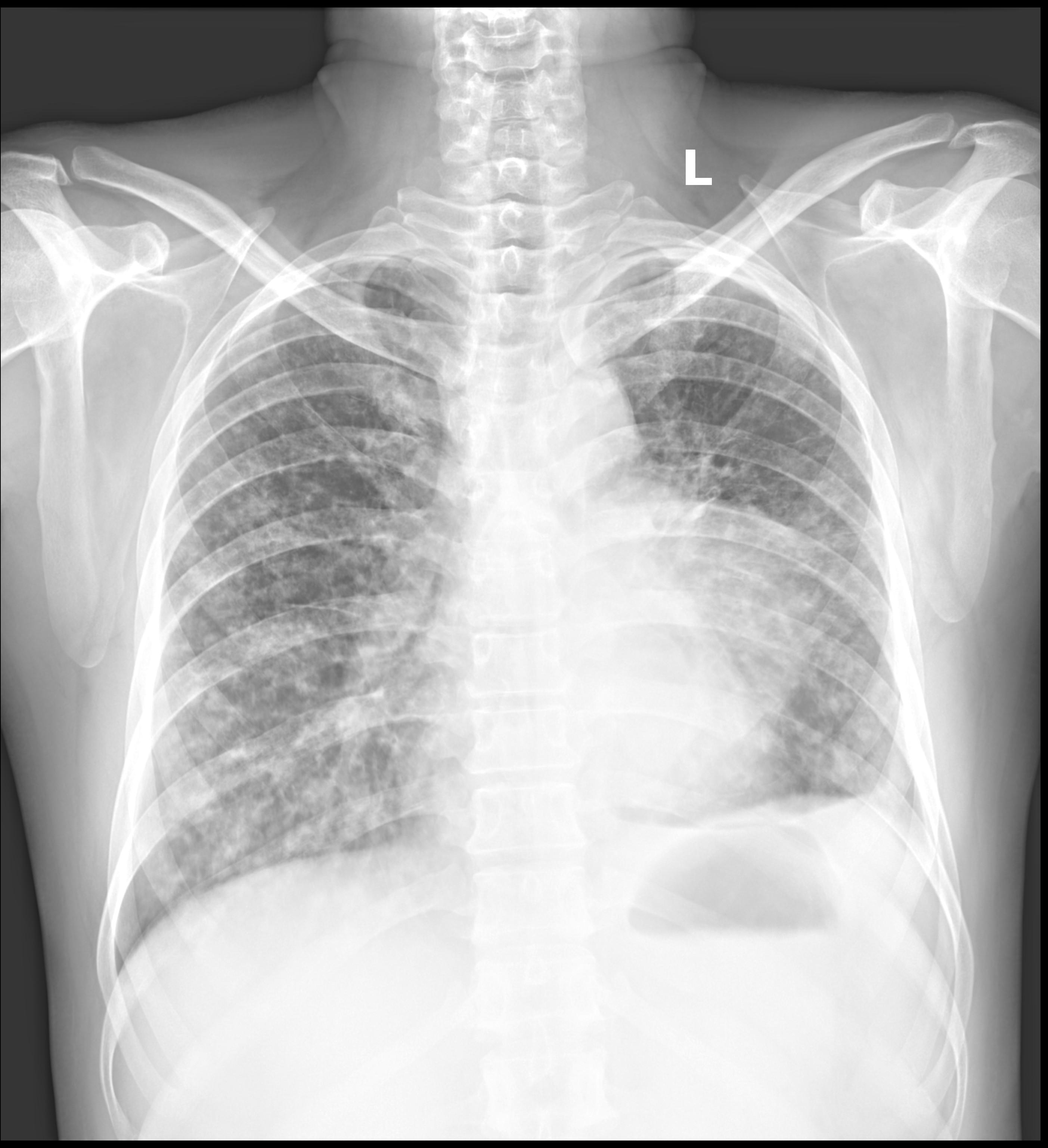Pleural thickening: (636, 230, 787, 309)
Pulmonary fibrosis: (148, 318, 407, 894), (616, 253, 876, 809)
